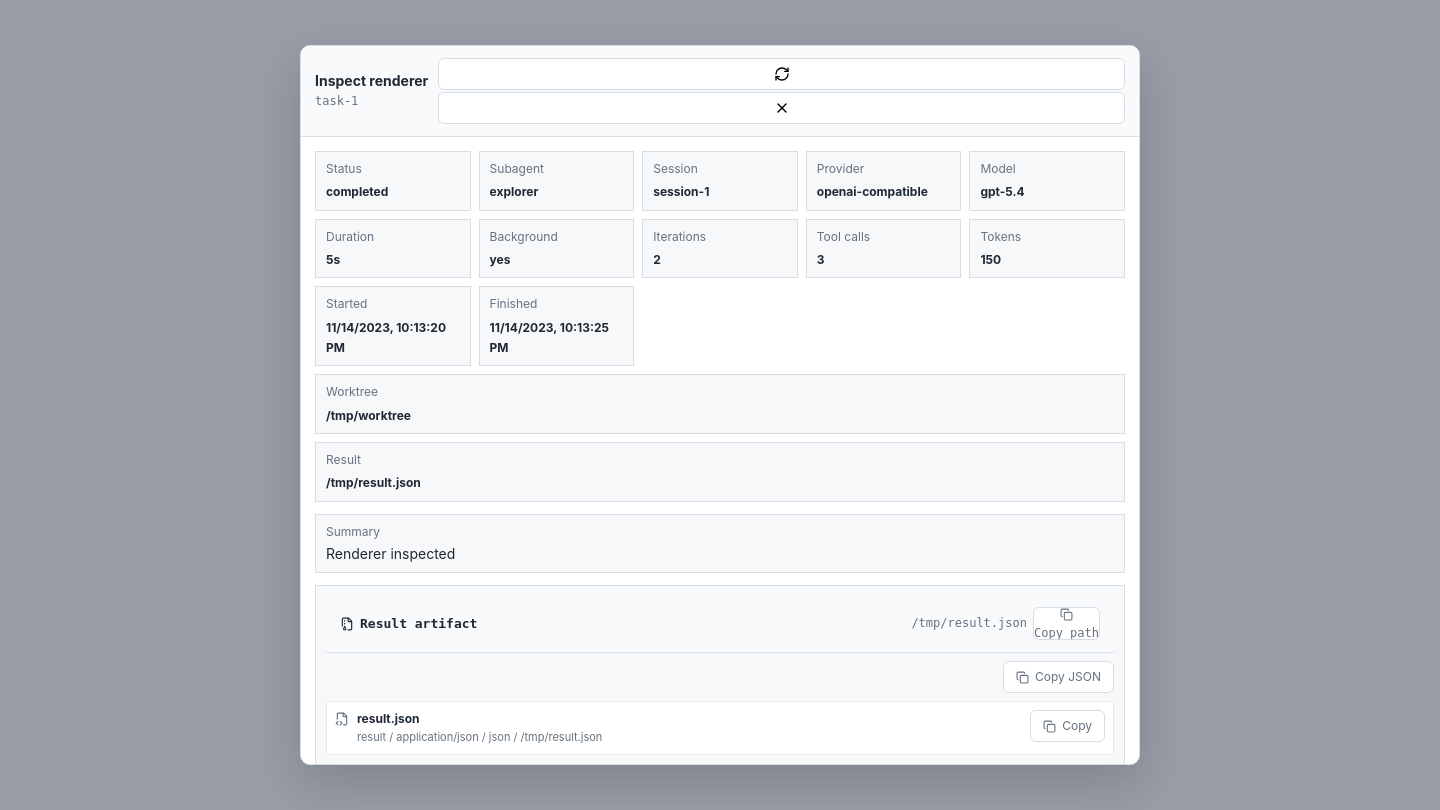
Scenario: TaskDetailDialog › refreshes task detail on demand
What coordinates should you click on to do the following:
click the button named "Refresh task details"
I would click on:
 (782, 74)
Its box is [438,58,1125,90].
(page scrolled)
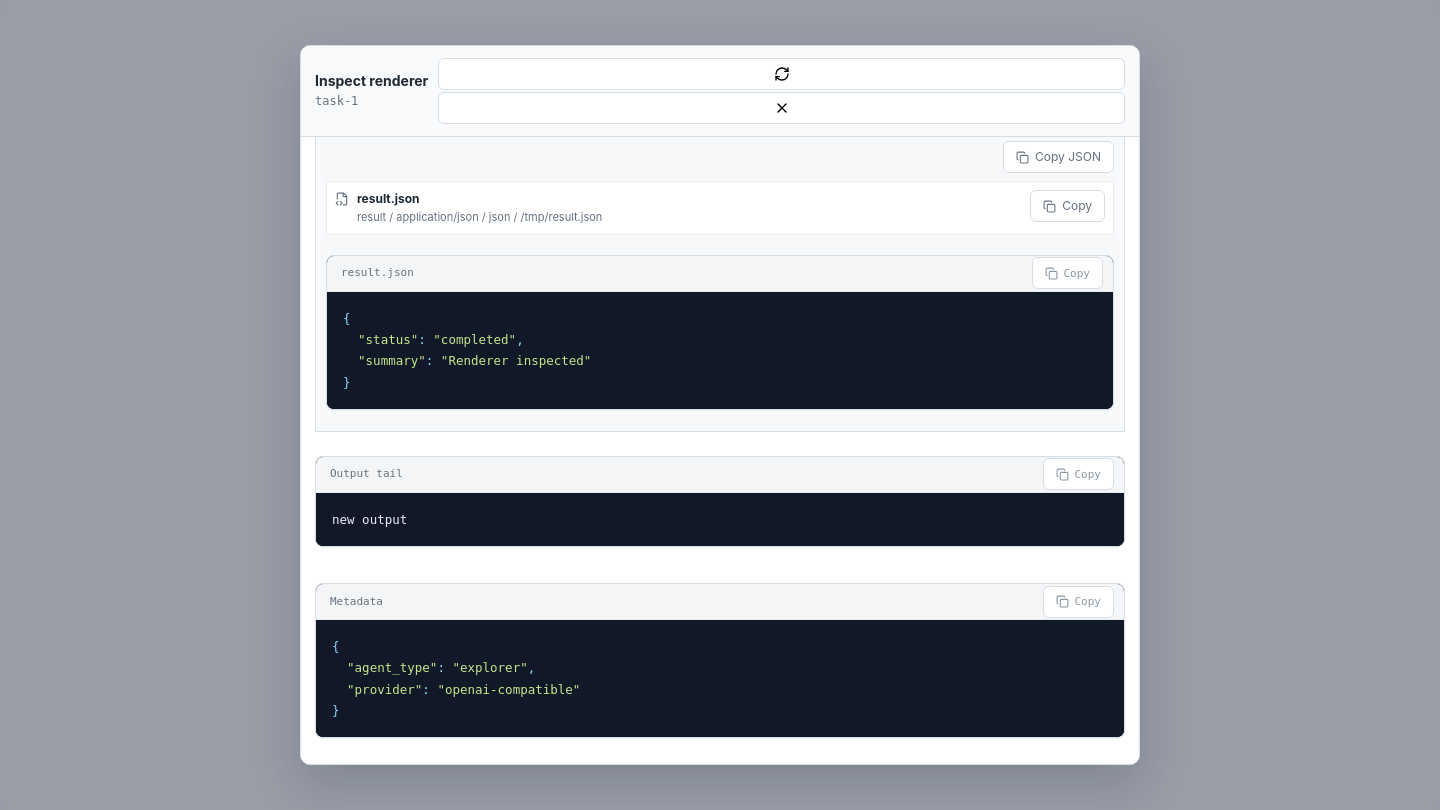
Now the text "new output" is shown, box [332,512,407,527]
